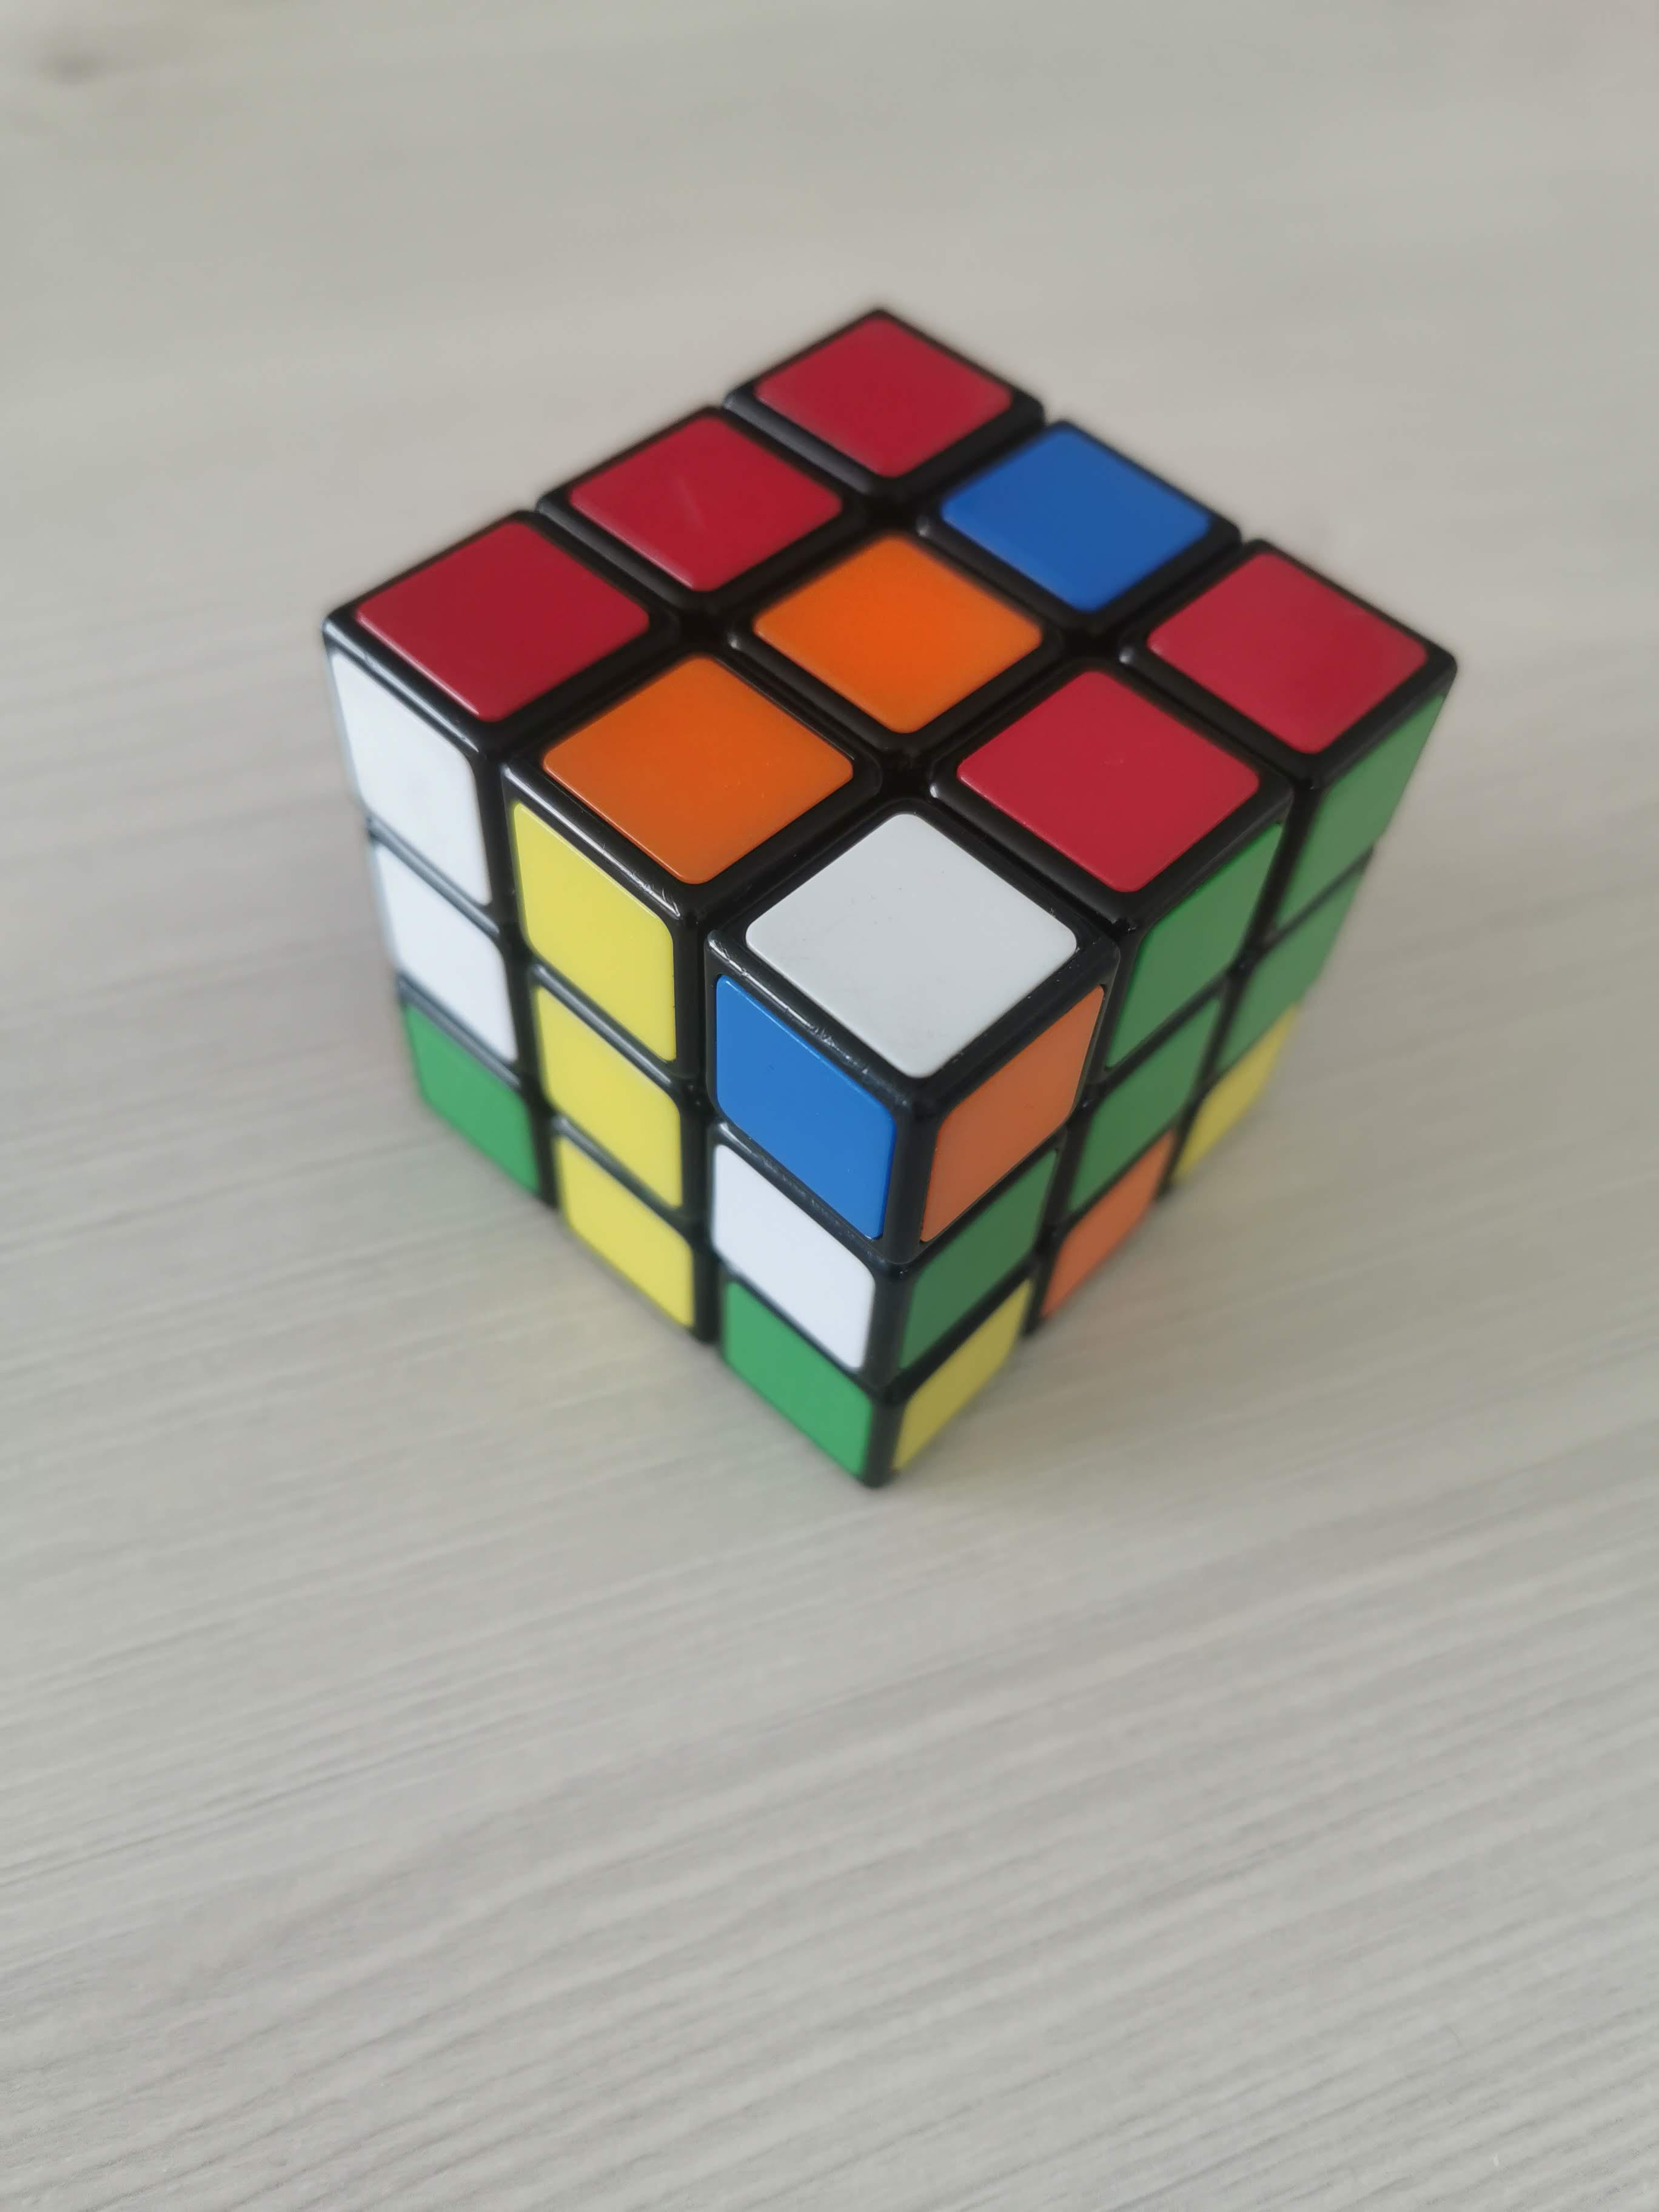cube: (317, 303, 1466, 1487)
